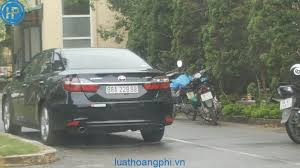Bien-so: (106, 85, 138, 94), (280, 97, 292, 111), (200, 91, 213, 102)
